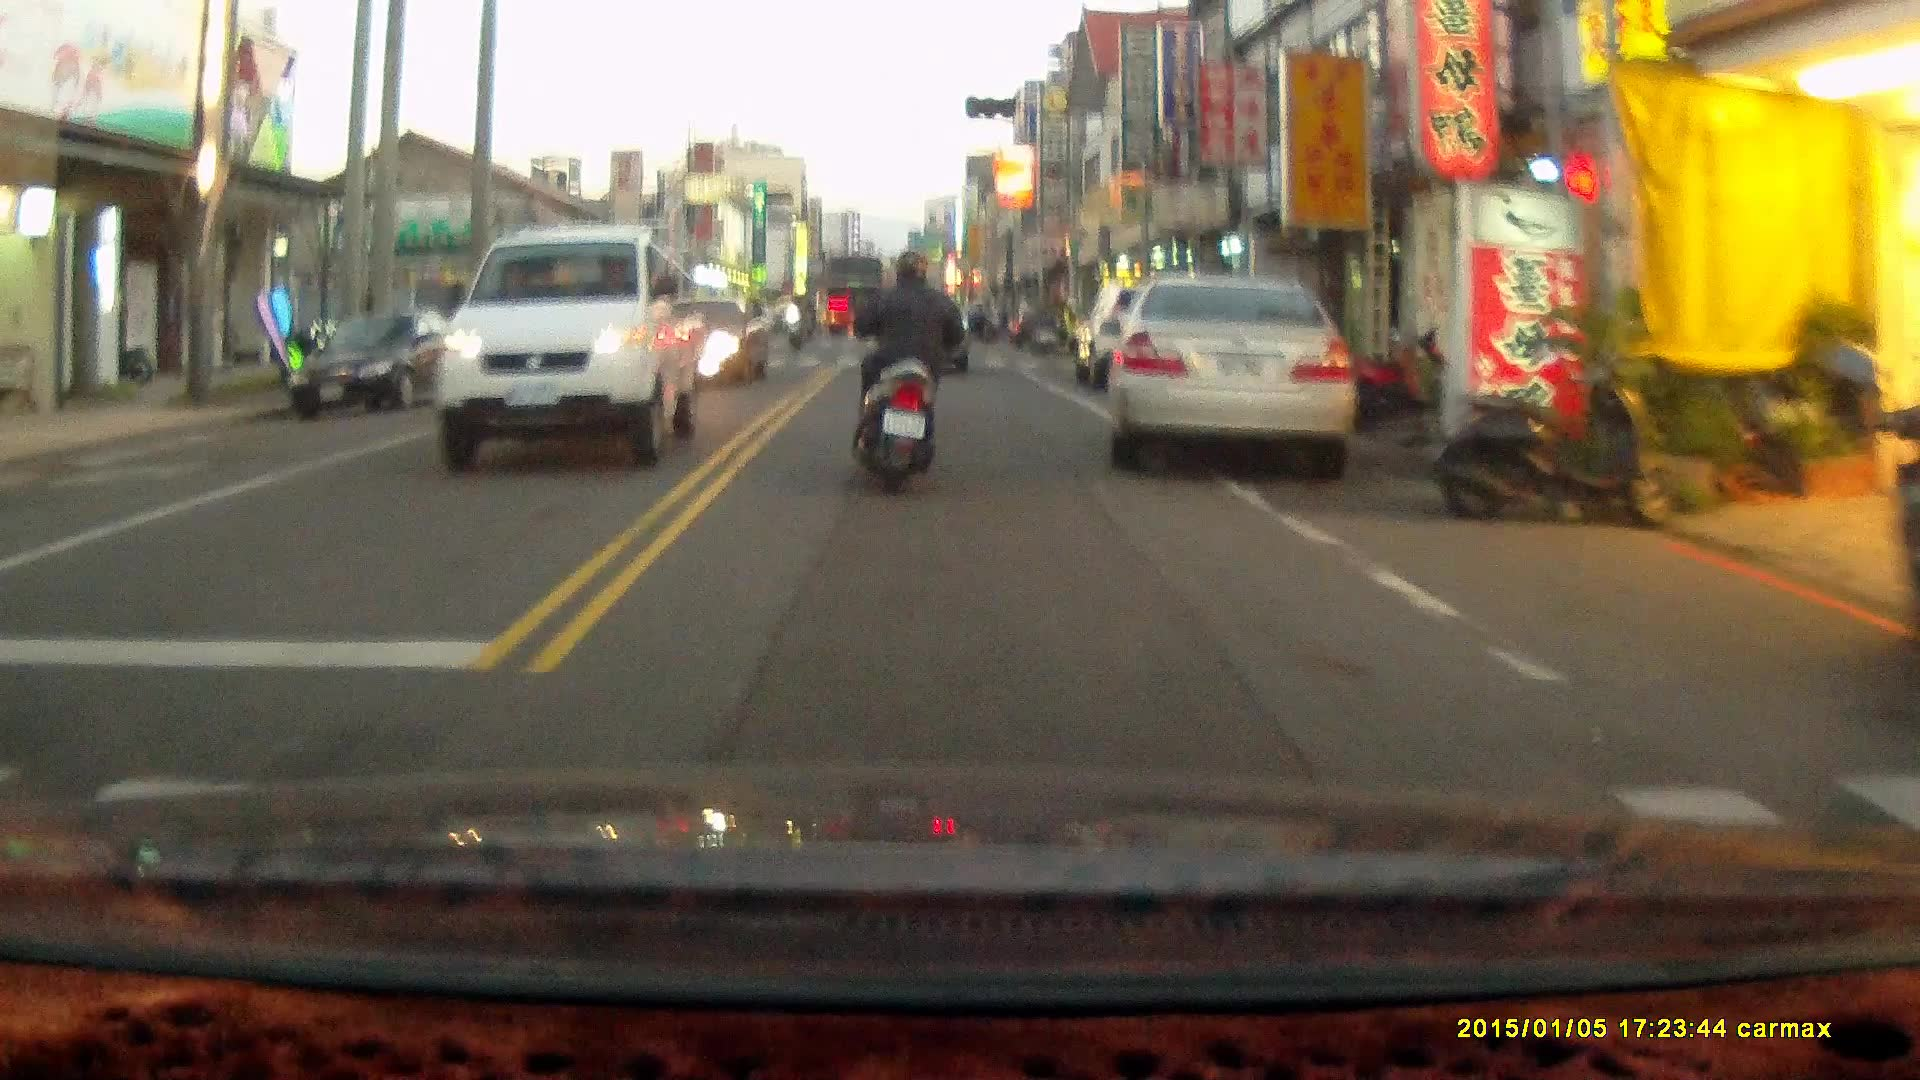pedestrian: (1058, 293, 1082, 362)
rider: (841, 247, 969, 499)
vehicle: (430, 228, 700, 472), (1103, 269, 1362, 470), (288, 308, 471, 414), (822, 251, 889, 334)
